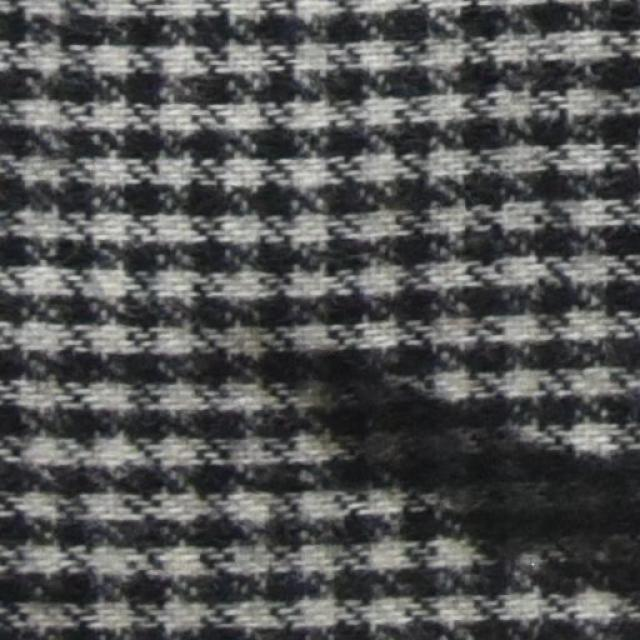Stain: (286, 337, 639, 611)
